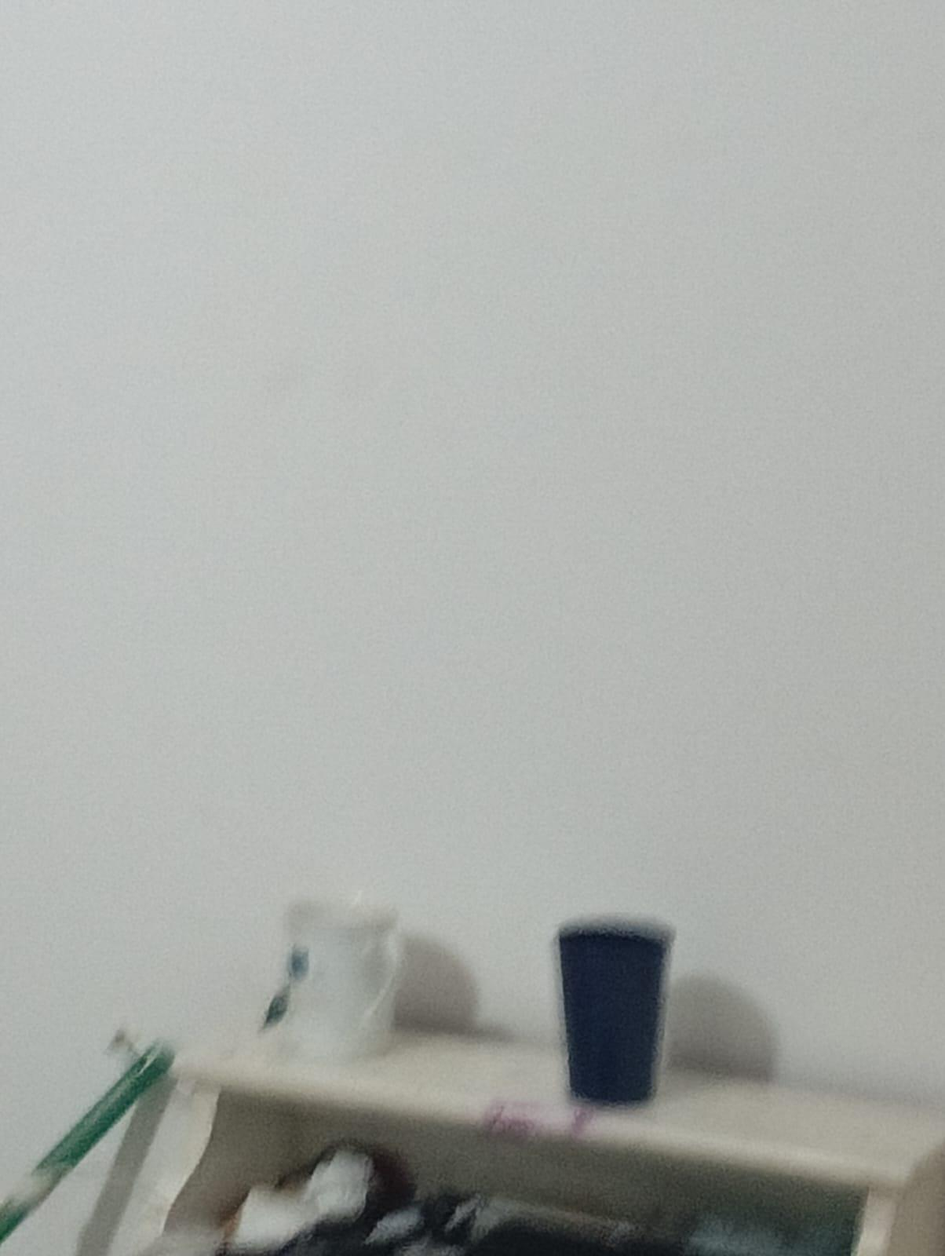cup: (558, 919, 672, 1104), (279, 900, 400, 1060)
